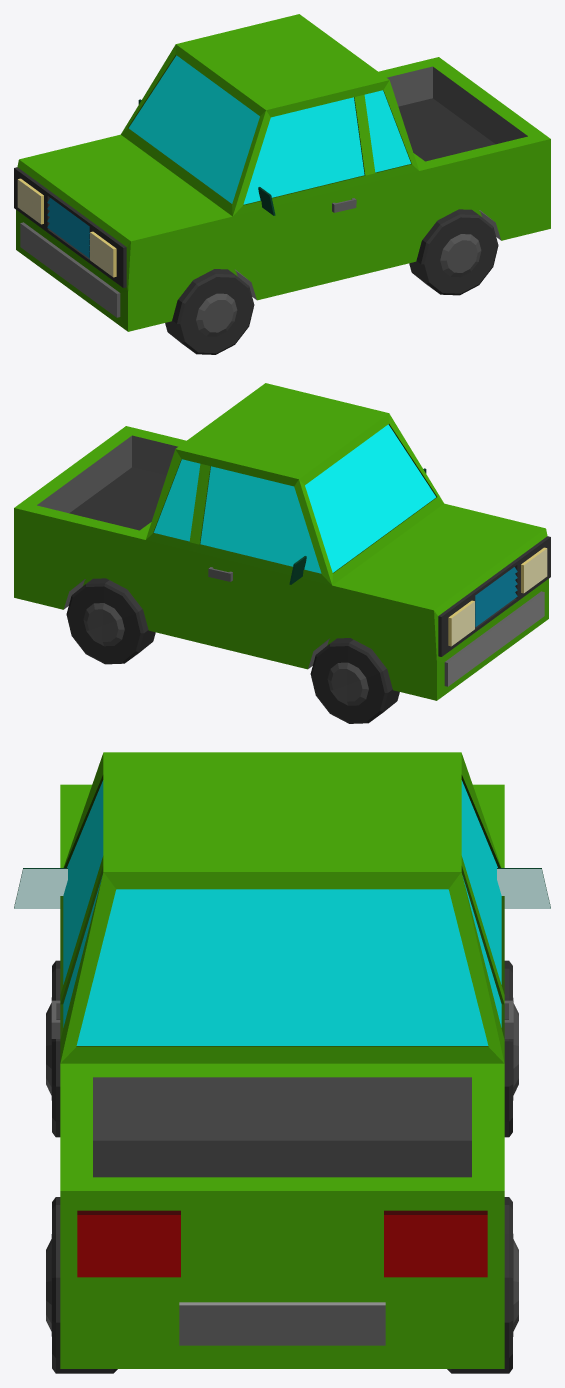
Rendered from Pickup.glb.
3 views of the same model, one above another, from view 1: azimuth 30°, elevation 25°; view 2: azimuth 150°, elevation 25°; view 3: azimuth 270°, elevation 25° (orthographic). The views are drawn at different scales.
Parts seen in each view (by area): view 1: Pickup; view 2: Pickup; view 3: Pickup.
Part boxes in pixels (x1,y1,x2,y2): Pickup: (14,14,550,354); Pickup: (14,383,550,723); Pickup: (14,752,550,1373).
Size of the model in its own units: 3.35 by 1.63 by 1.81.
Materials: 1 (1 with a texture image).
